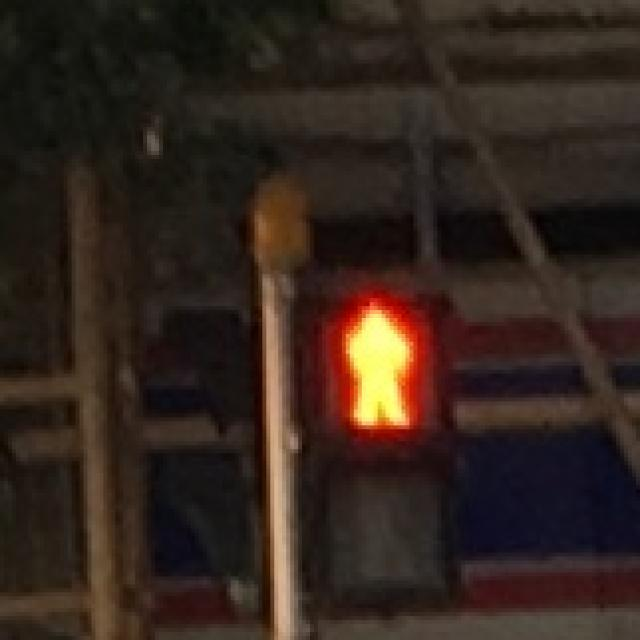red-light: (307, 289, 442, 440)
